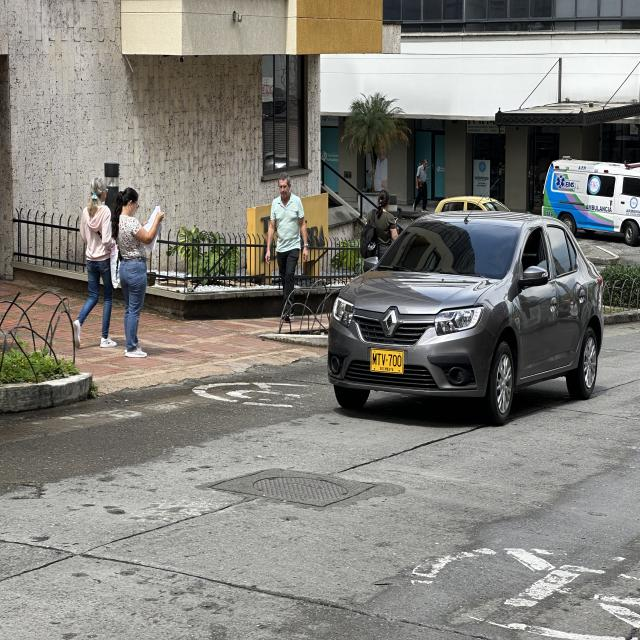number plate: (370, 348, 403, 374)
